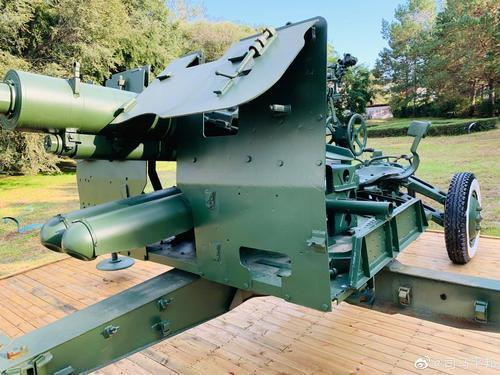MIL_SPG: (0, 18, 500, 374), (4, 19, 5, 21)
